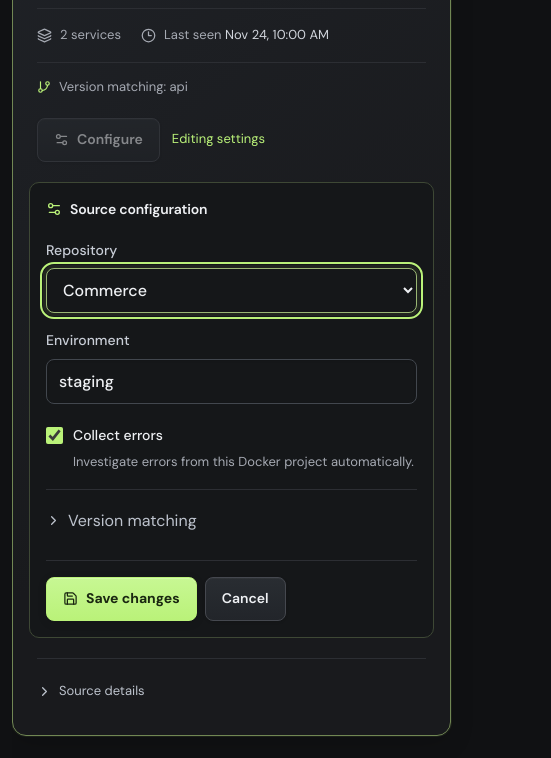
cancels edits and preserves unsaved values across source refreshes
Earlier steps of the test are not shown.
(page scrolled)
Expected: the field named "Environment for app (host-a)" holds "staging", [46,359,417,404]
Click the button "Cancel" at {"x": 245, "y": 599}, box [205,577,286,621]
(page scrolled)
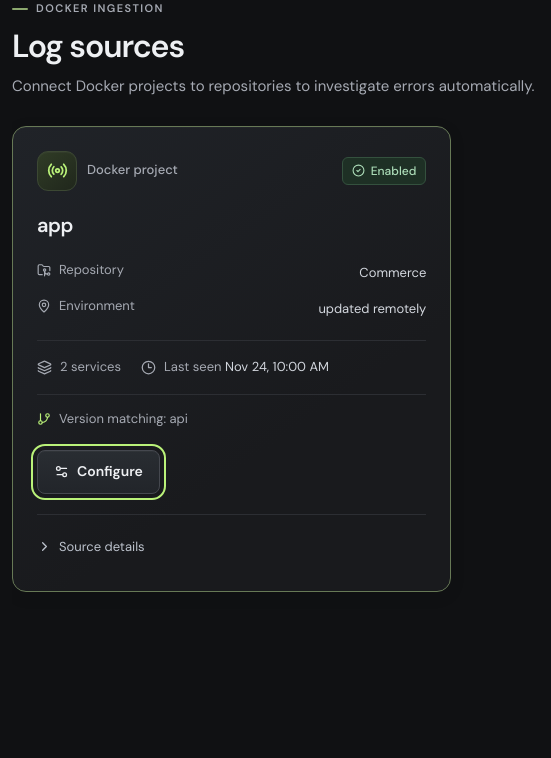
Click the button with aria-label "Configure app (host-a)" at {"x": 98, "y": 472}, box [37,450,160,494]
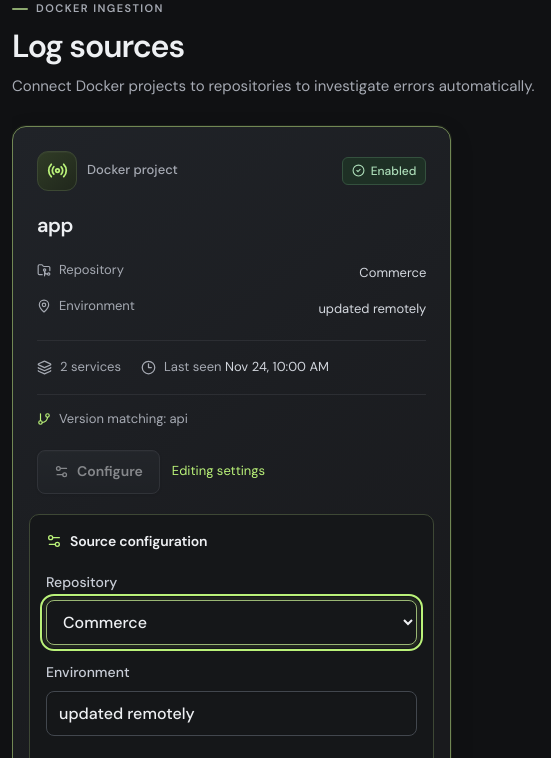
Now the field named "Environment for app (host-a)" holds "updated remotely", box [46,691,417,736]
